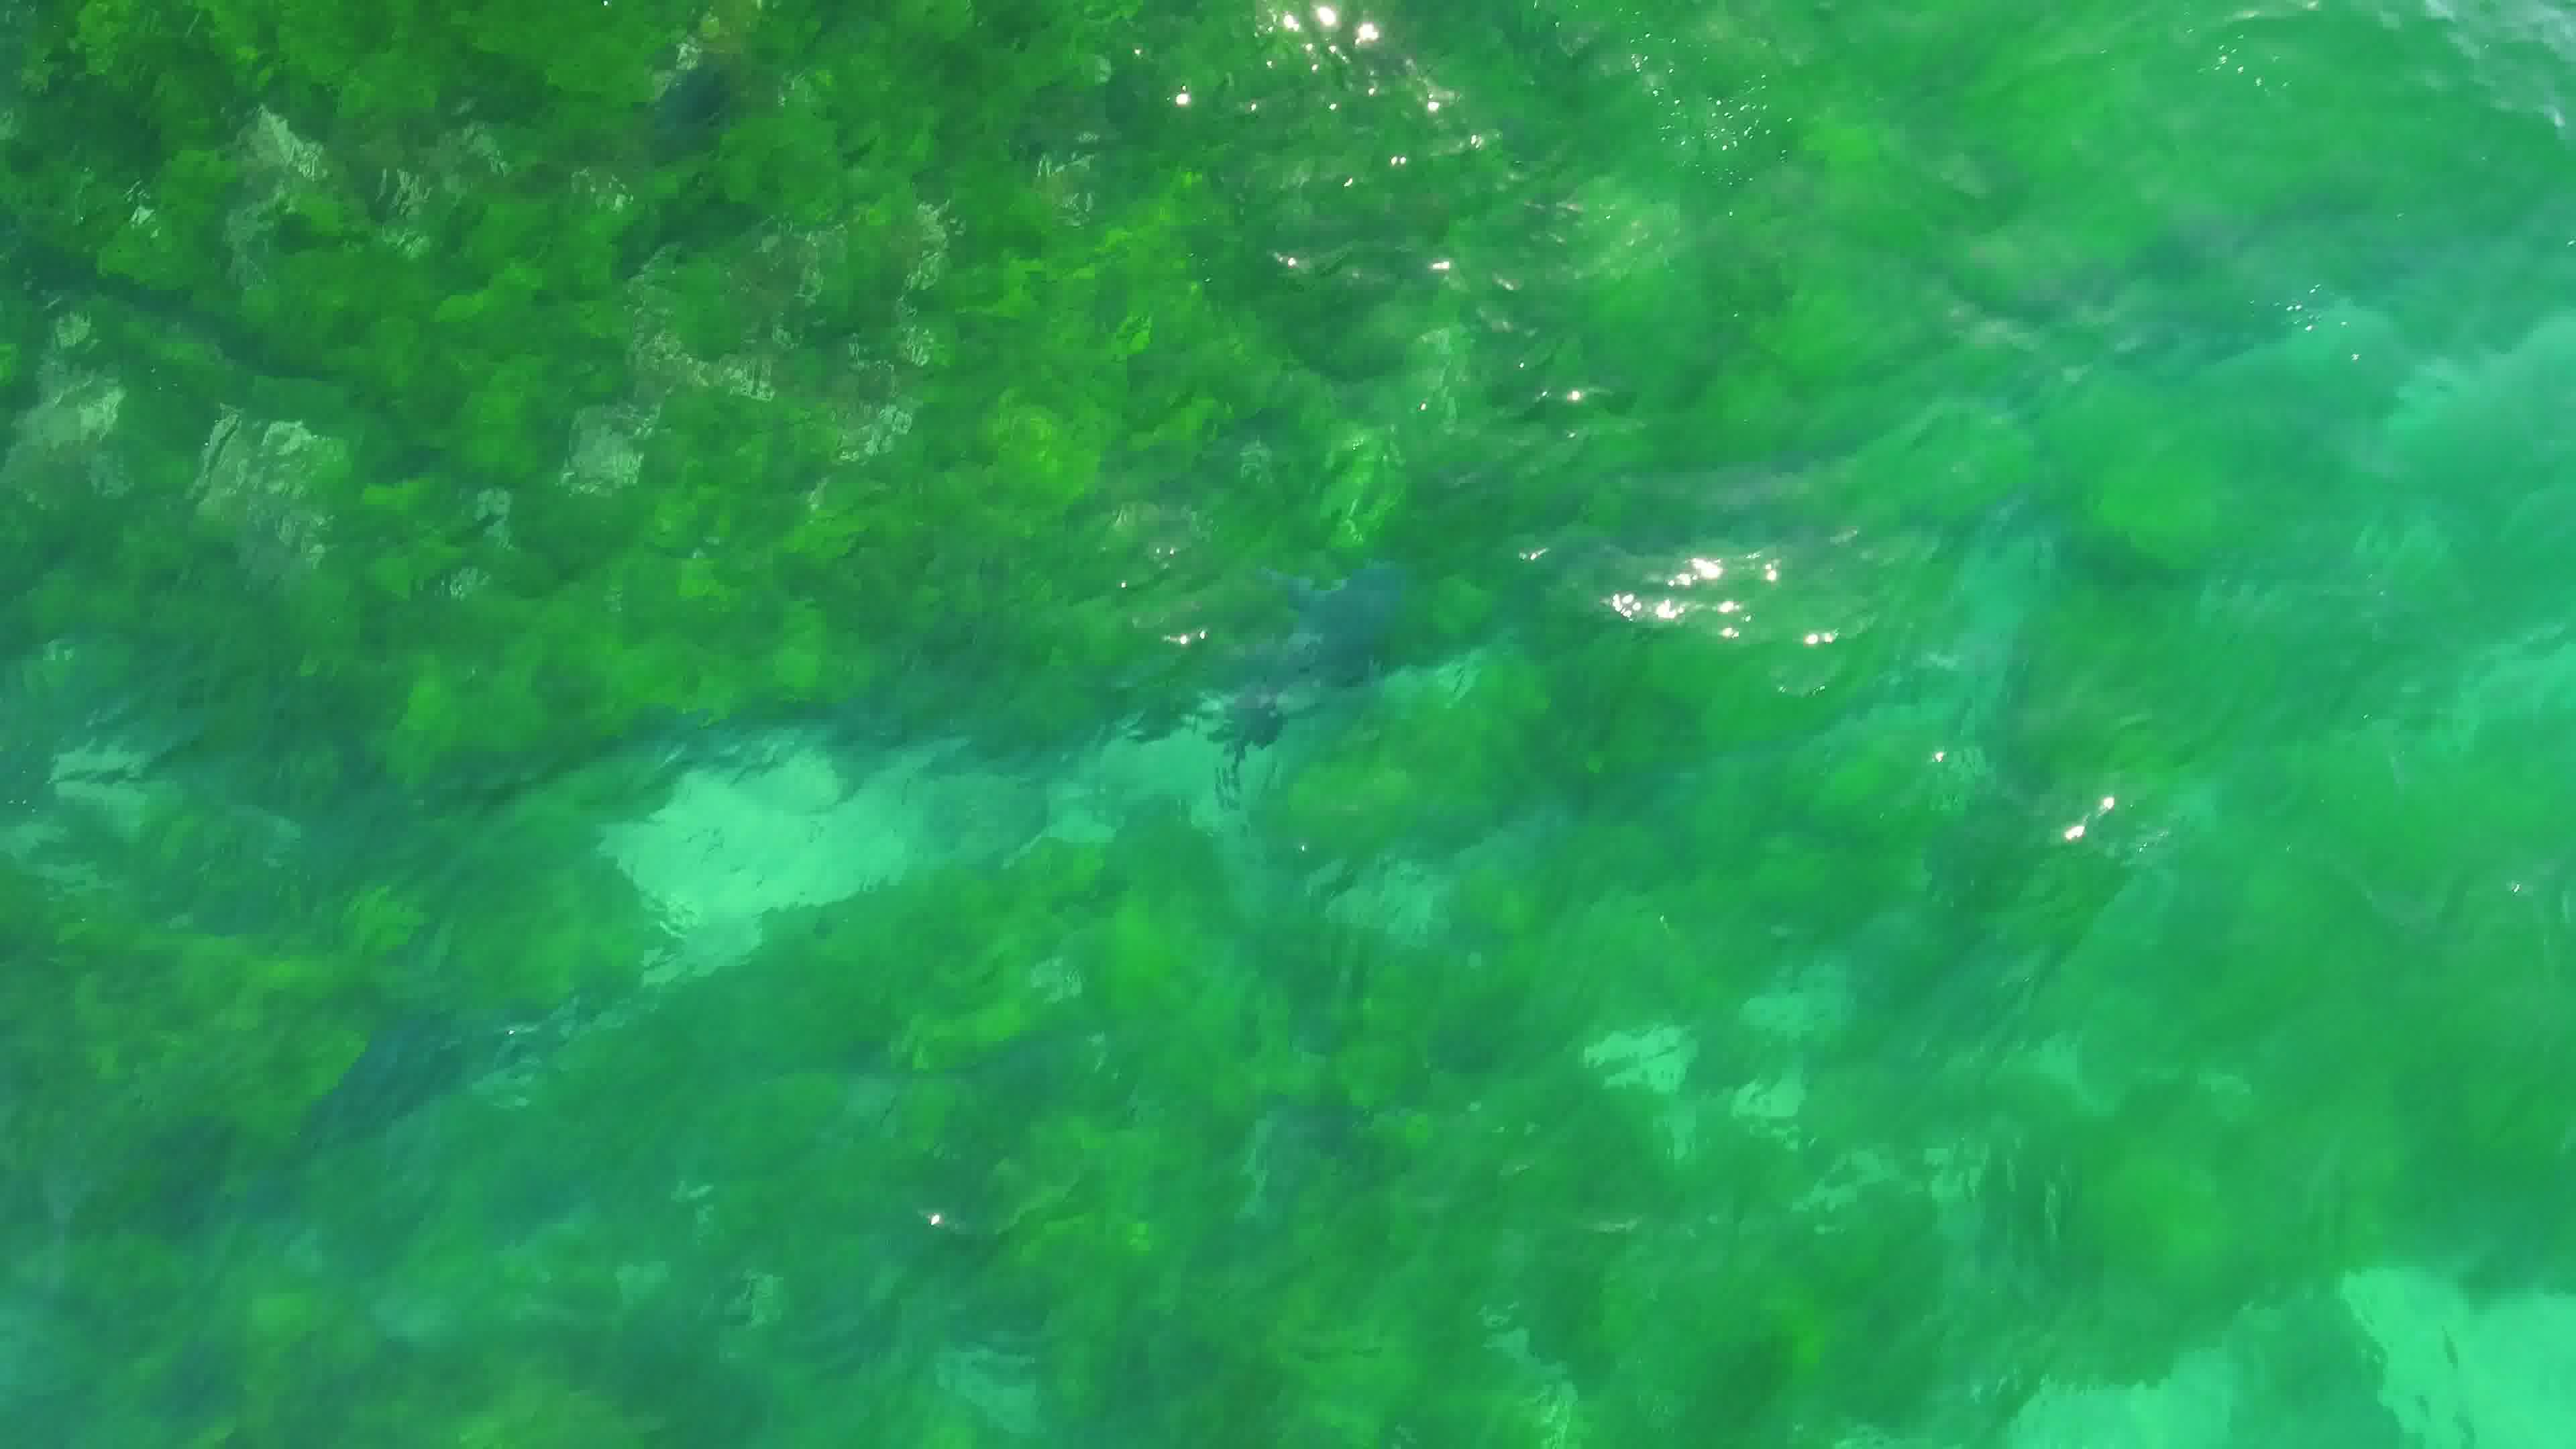shark: (1200, 527, 1405, 764)
